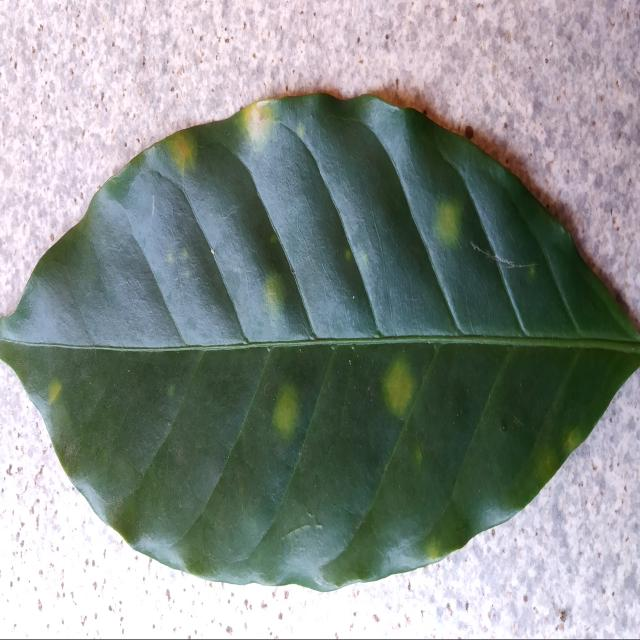Enfermedad-Roya: (0, 92, 640, 593)
